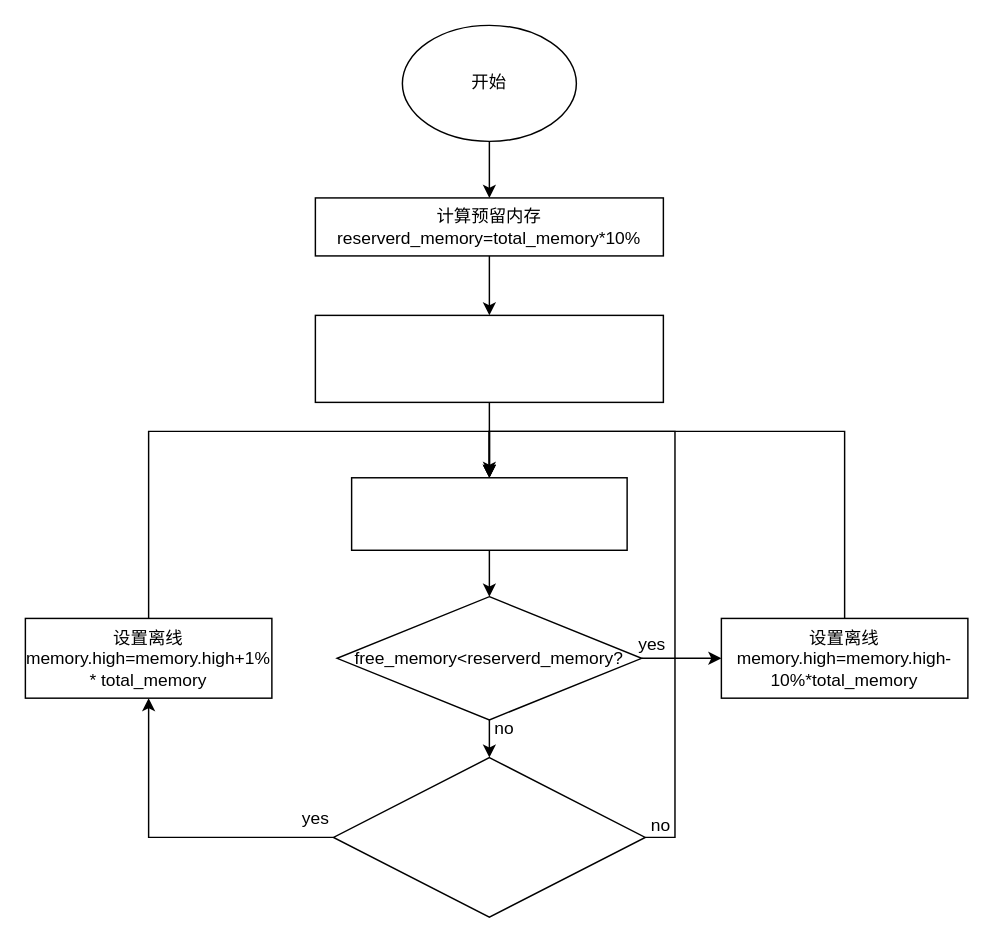
The diagram is 993 pixels wide and 943 high, and some of its shapes have lost their labels. The box of each missing label's shape, as (x1, y1, x2, y2) in pixels:
持续1分钟 free_memory>2*reserverd_memory?: (332, 756, 645, 917)
获取剩余内存free_memory: (350, 476, 627, 550)
配置离线memory.high=total_memory*80% & memory.high_async_ratio为10%: (314, 314, 663, 402)
